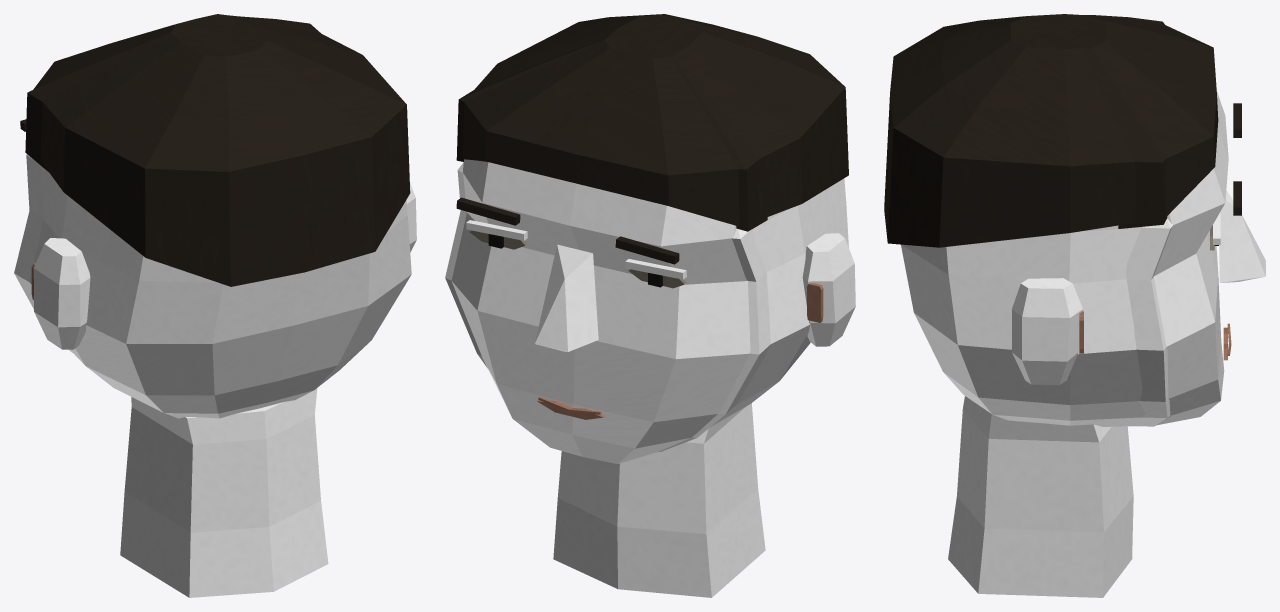
The picture shows the model from 3 angles, left to right: view 1: azimuth 30°, elevation 25°; view 2: azimuth 150°, elevation 25°; view 3: azimuth 270°, elevation 25°; orthographic projection. The views are drawn at different scales.
Parts seen in each view (by area): view 1: face_03_head_LOD0_RAID_skin.001, face_03_head_LOD0_RAID_hair3.001, face_03_head_LOD1_RAID_hair3.001, face_03_head_LOD1_RAID_skin.001; view 2: face_03_head_LOD0_RAID_skin.001, face_03_head_LOD0_RAID_hair3.001, face_03_head_LOD1_RAID_hair3.001, face_03_head_LOD1_RAID_skin.001, face_03_head_LOD0_RAID_lip.001, face_03_head_LOD0_RAID_eye.001; view 3: face_03_head_LOD0_RAID_skin.001, face_03_head_LOD0_RAID_hair3.001, face_03_head_LOD1_RAID_hair3.001, face_03_head_LOD1_RAID_skin.001.
Boxes of the visible parts, bbox=[...] form: face_03_head_LOD0_RAID_skin.001: bbox=[29, 167, 416, 597]; face_03_head_LOD0_RAID_hair3.001: bbox=[20, 14, 410, 286]; face_03_head_LOD1_RAID_hair3.001: bbox=[25, 16, 320, 171]; face_03_head_LOD1_RAID_skin.001: bbox=[14, 154, 73, 353]; face_03_head_LOD0_RAID_skin.001: bbox=[451, 159, 855, 597]; face_03_head_LOD0_RAID_hair3.001: bbox=[456, 14, 848, 264]; face_03_head_LOD1_RAID_hair3.001: bbox=[456, 17, 767, 231]; face_03_head_LOD1_RAID_skin.001: bbox=[445, 162, 770, 452]; face_03_head_LOD0_RAID_lip.001: bbox=[537, 283, 823, 419]; face_03_head_LOD0_RAID_eye.001: bbox=[469, 230, 686, 288]; face_03_head_LOD0_RAID_skin.001: bbox=[901, 90, 1265, 597]; face_03_head_LOD0_RAID_hair3.001: bbox=[884, 14, 1241, 247]; face_03_head_LOD1_RAID_hair3.001: bbox=[1011, 15, 1167, 228]; face_03_head_LOD1_RAID_skin.001: bbox=[1126, 218, 1173, 426].
Bounding box in the file's own units: 0.2884 × 0.392 × 0.257.
Materials: 5 (5 with a texture image).
